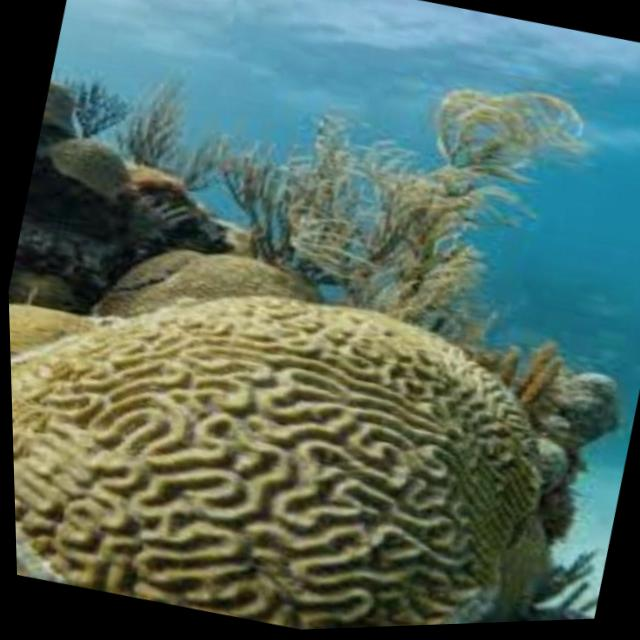Healthy Coral: (5, 211, 606, 640)
